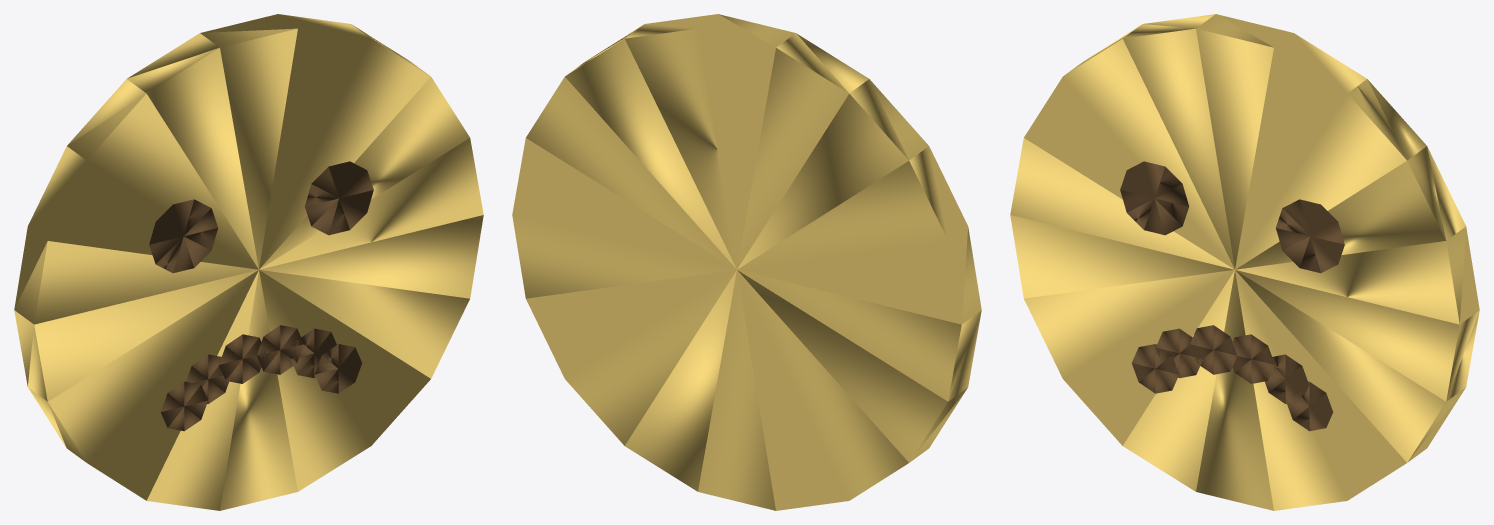
File: sad.glb
3 views of the same model, side by side, from view 1: azimuth 30°, elevation 25°; view 2: azimuth 150°, elevation 25°; view 3: azimuth 330°, elevation 25° (orthographic).
Parts seen in each view (by area): view 1: sad; view 2: sad; view 3: sad.
Part boxes in pixels (x1,y1,x2,y2): sad: (14, 14, 483, 510); sad: (512, 14, 981, 510); sad: (1010, 14, 1479, 510).
Bounding box in the file's own units: 1.04 × 1.02 × 0.09.
